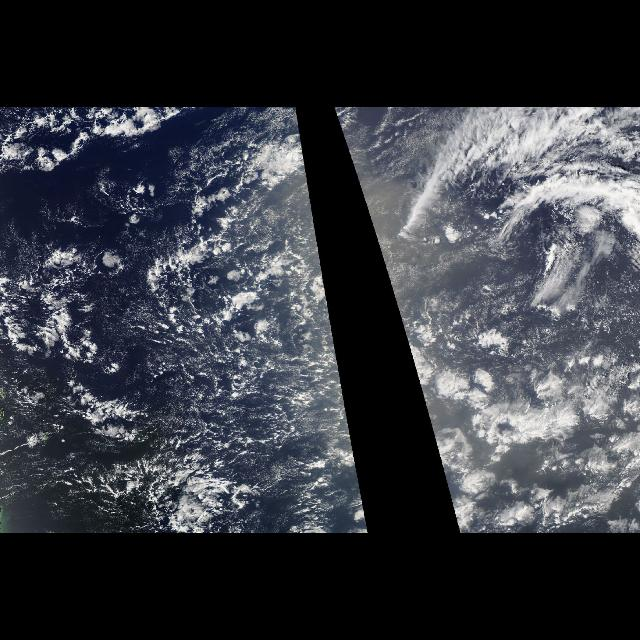Gravel: (118, 320, 356, 460)
Sugar: (335, 111, 443, 205)
